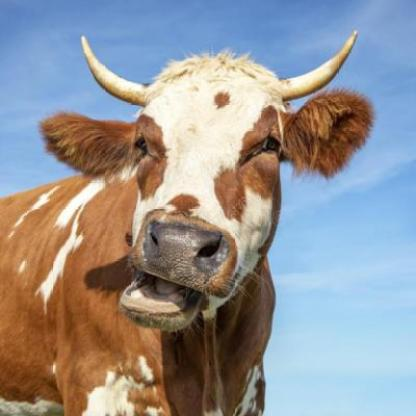lower: (144, 305, 170, 322)
mouth: (119, 215, 235, 326)
upper: (169, 238, 189, 257)
